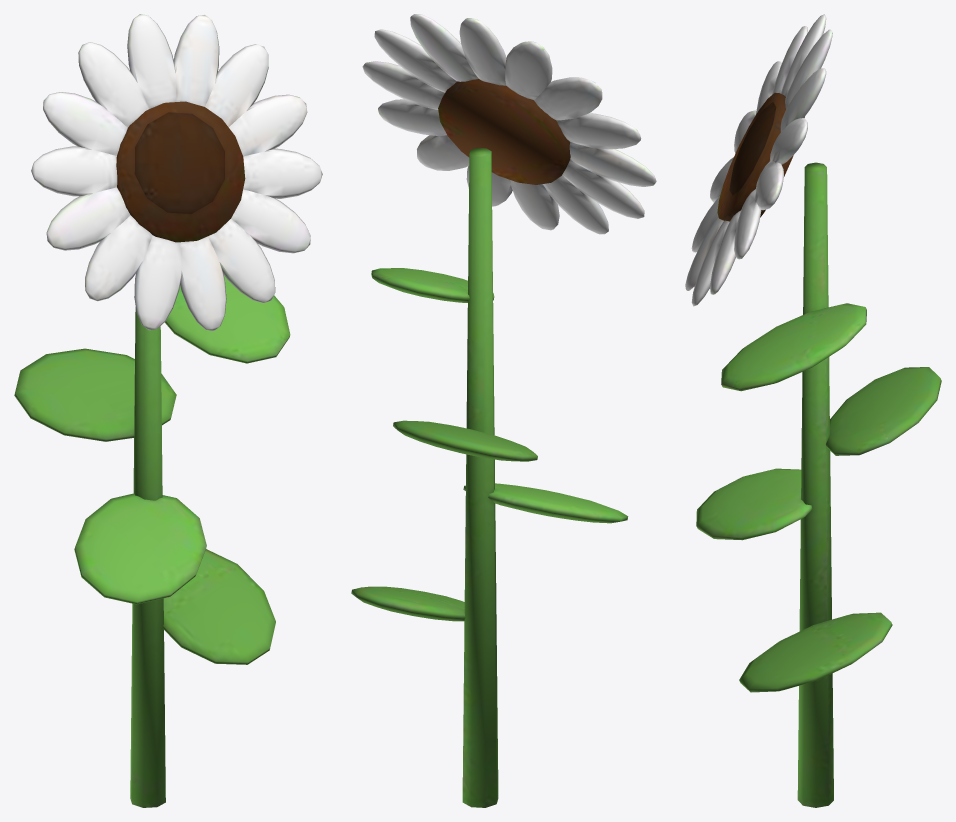
The model's file is crop_chamomile.glb.
3 views of the same model, side by side, from view 1: azimuth 30°, elevation 25°; view 2: azimuth 150°, elevation 25°; view 3: azimuth 270°, elevation 25° (orthographic). The views are drawn at different scales.
Visible parts, largest first — view 1: crop_chamomile, fruit; view 2: crop_chamomile, fruit; view 3: crop_chamomile, fruit.
Part boxes in pixels (bbox=[...]): crop_chamomile: bbox=[14, 101, 290, 807]; fruit: bbox=[31, 14, 322, 331]; crop_chamomile: bbox=[351, 79, 628, 807]; fruit: bbox=[362, 14, 656, 234]; crop_chamomile: bbox=[696, 92, 941, 807]; fruit: bbox=[685, 14, 832, 306].
Size of the model in its own units: 0.2242 by 0.6079 by 0.1837.
Materials: 1 (1 with a texture image).
